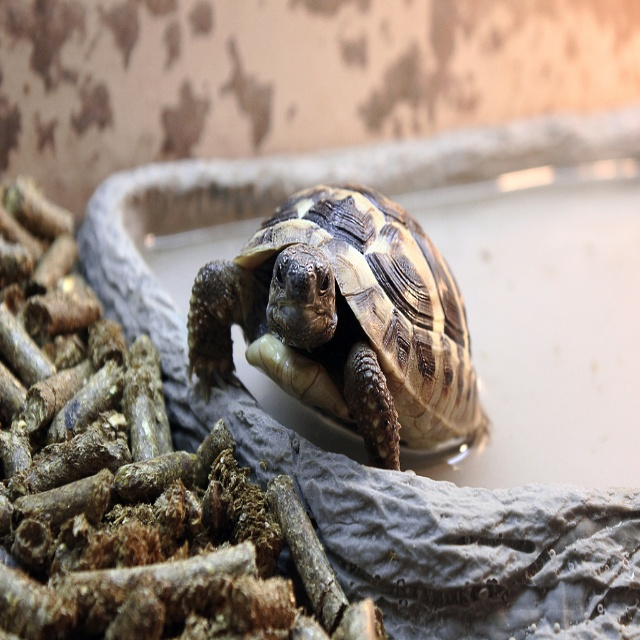Tortoise: (186, 181, 494, 473)
